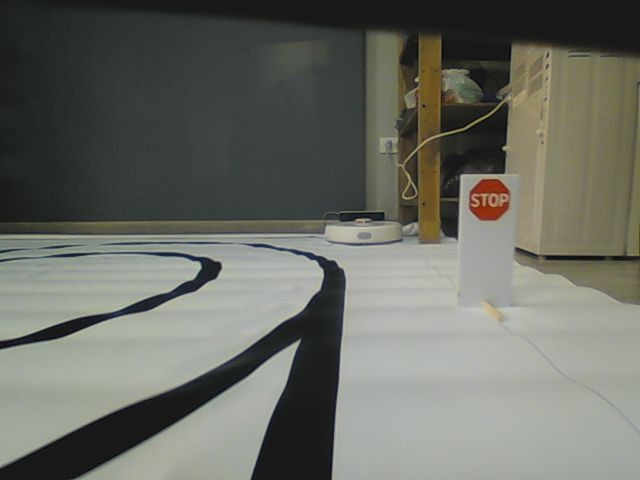Stop: (469, 177, 510, 221)
